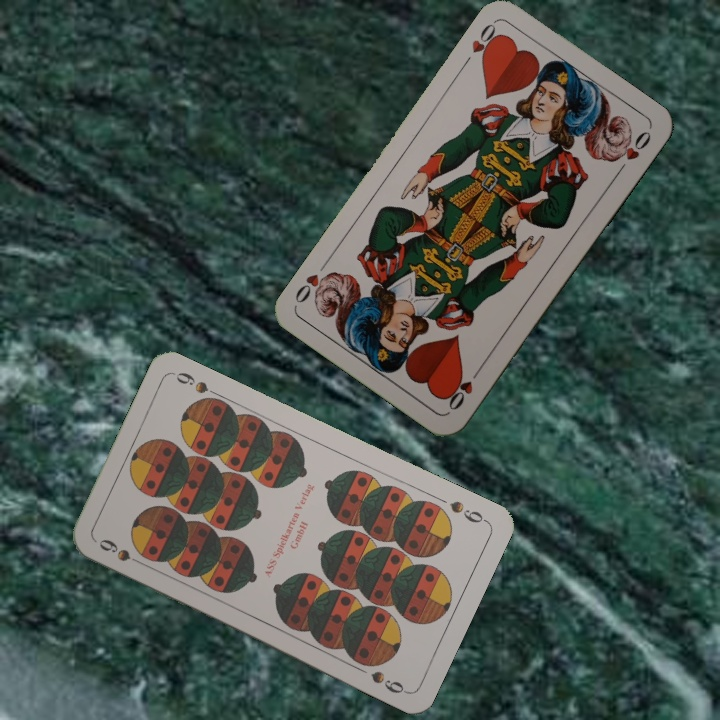HO: (459, 17, 504, 69), (443, 362, 484, 414)
S9: (94, 534, 149, 569), (445, 496, 490, 526)
